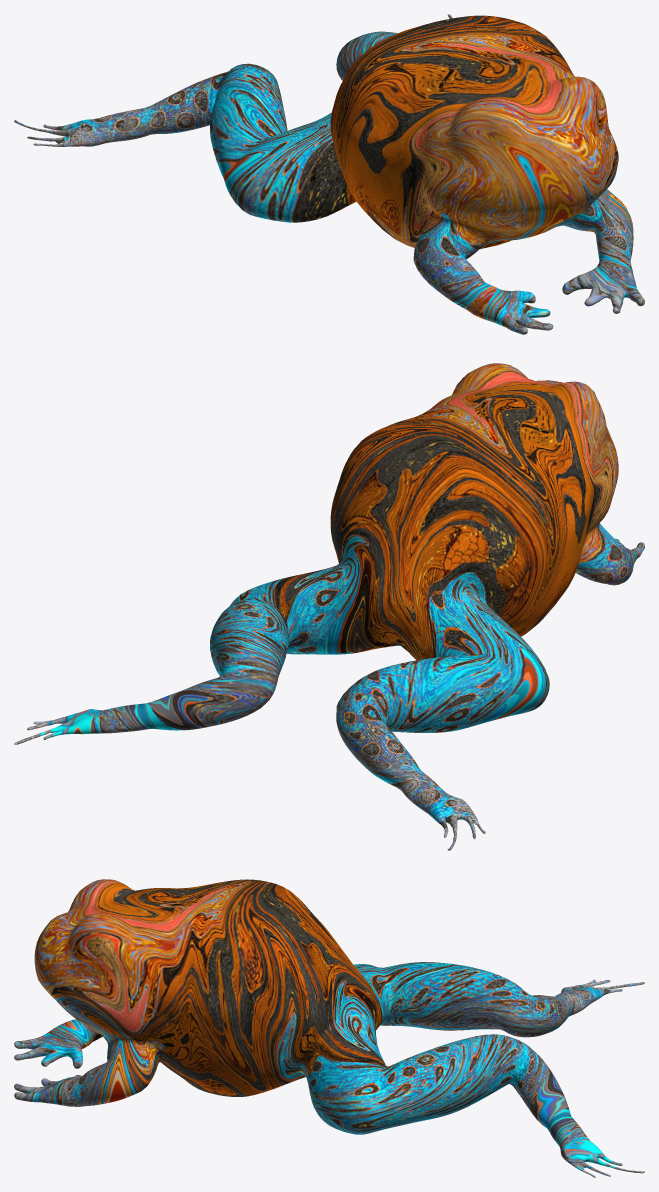
Rendered from frogie-swirl-small.glb.
The picture shows the model from 3 angles, top to bottom: view 1: azimuth 30°, elevation 25°; view 2: azimuth 150°, elevation 25°; view 3: azimuth 270°, elevation 25°; orthographic projection. The views are drawn at different scales.
Parts seen in each view (by area): view 1: Frog; view 2: Frog; view 3: Frog.
Boxes of the visible parts, x1=… form: Frog: x1=14, y1=14, x2=644, y2=334; Frog: x1=14, y1=363, x2=644, y2=850; Frog: x1=14, y1=879, x2=644, y2=1177.
Bounding box in the file's own units: 25.09 × 10.92 × 33.96.
1 material, 1 textured.
